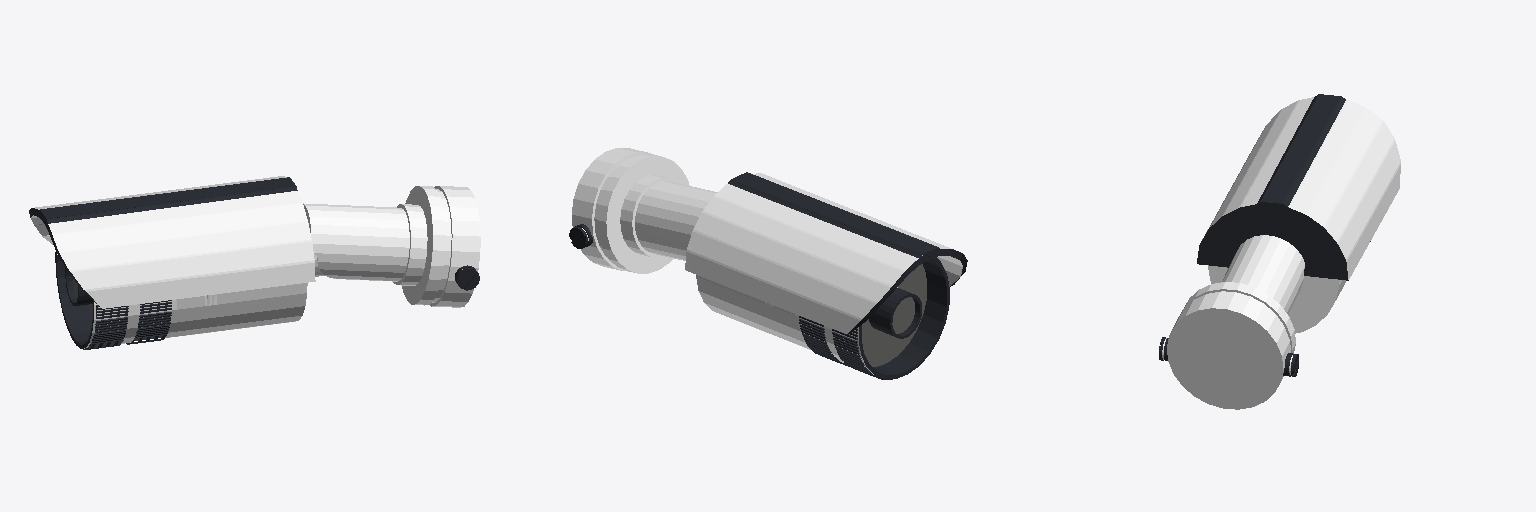
Rendered from Camera2.obj.
3 renders of one model, left to right at view 1: azimuth 30°, elevation 25°; view 2: azimuth 150°, elevation 25°; view 3: azimuth 270°, elevation 25°, orthographic.
Visible parts, largest first — view 1: Mesh4 Model, Mesh1 Group1 Model; view 2: Mesh4 Model, Mesh1 Group1 Model; view 3: Mesh4 Model, Mesh1 Group1 Model.
Part boxes in pixels (x1,y1,x2,y2): Mesh4 Model: (29,176,315,349); Mesh1 Group1 Model: (303,186,480,307); Mesh4 Model: (685,172,967,379); Mesh1 Group1 Model: (572,148,717,273); Mesh4 Model: (1197,94,1400,333); Mesh1 Group1 Model: (1167,235,1304,409).
Bounding box in the file's own units: 2.7 × 0.9128 × 1.45.